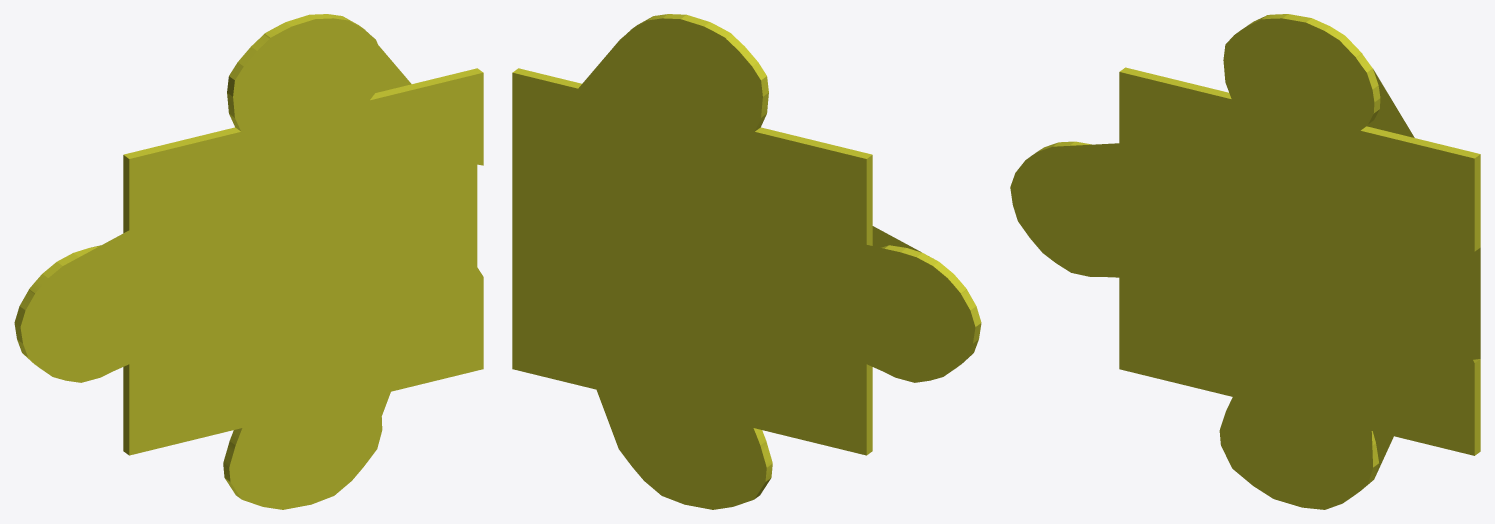
The model's file is InsidePieceFour.obj.
3 renders of one model, left to right at view 1: azimuth 30°, elevation 25°; view 2: azimuth 150°, elevation 25°; view 3: azimuth 330°, elevation 25°, orthographic.
Visible parts, largest first — view 1: Cap_1, Extrude, Cap_2; view 2: Cap_2, Extrude; view 3: Cap_1, Cap_2, Extrude.
Boxes of the visible parts, x1,y1,x2,y2 form: Cap_1: [20, 18, 483, 509]; Extrude: [14, 14, 482, 499]; Cap_2: [91, 45, 477, 415]; Cap_2: [512, 18, 975, 509]; Extrude: [513, 14, 981, 499]; Cap_1: [1010, 18, 1474, 509]; Cap_2: [1367, 69, 1480, 477]; Extrude: [1030, 14, 1480, 493].
Size of the model in its own units: 0.6978 by 0.6978 by 0.0158.
